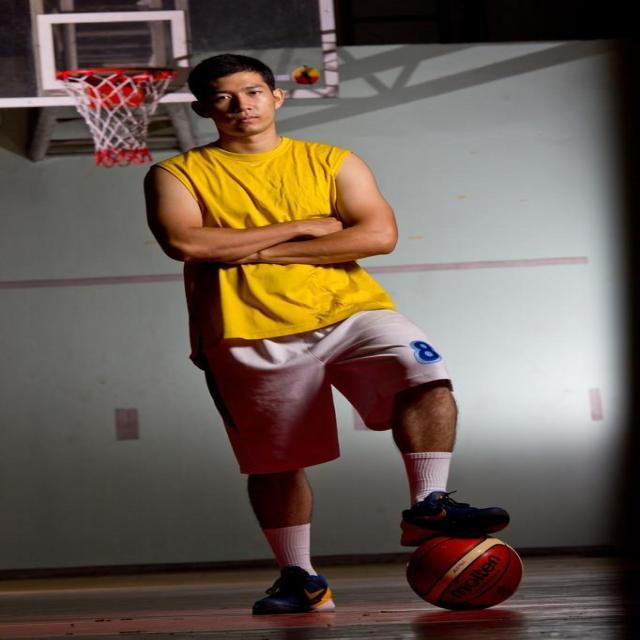rim: (402, 528, 528, 610)
